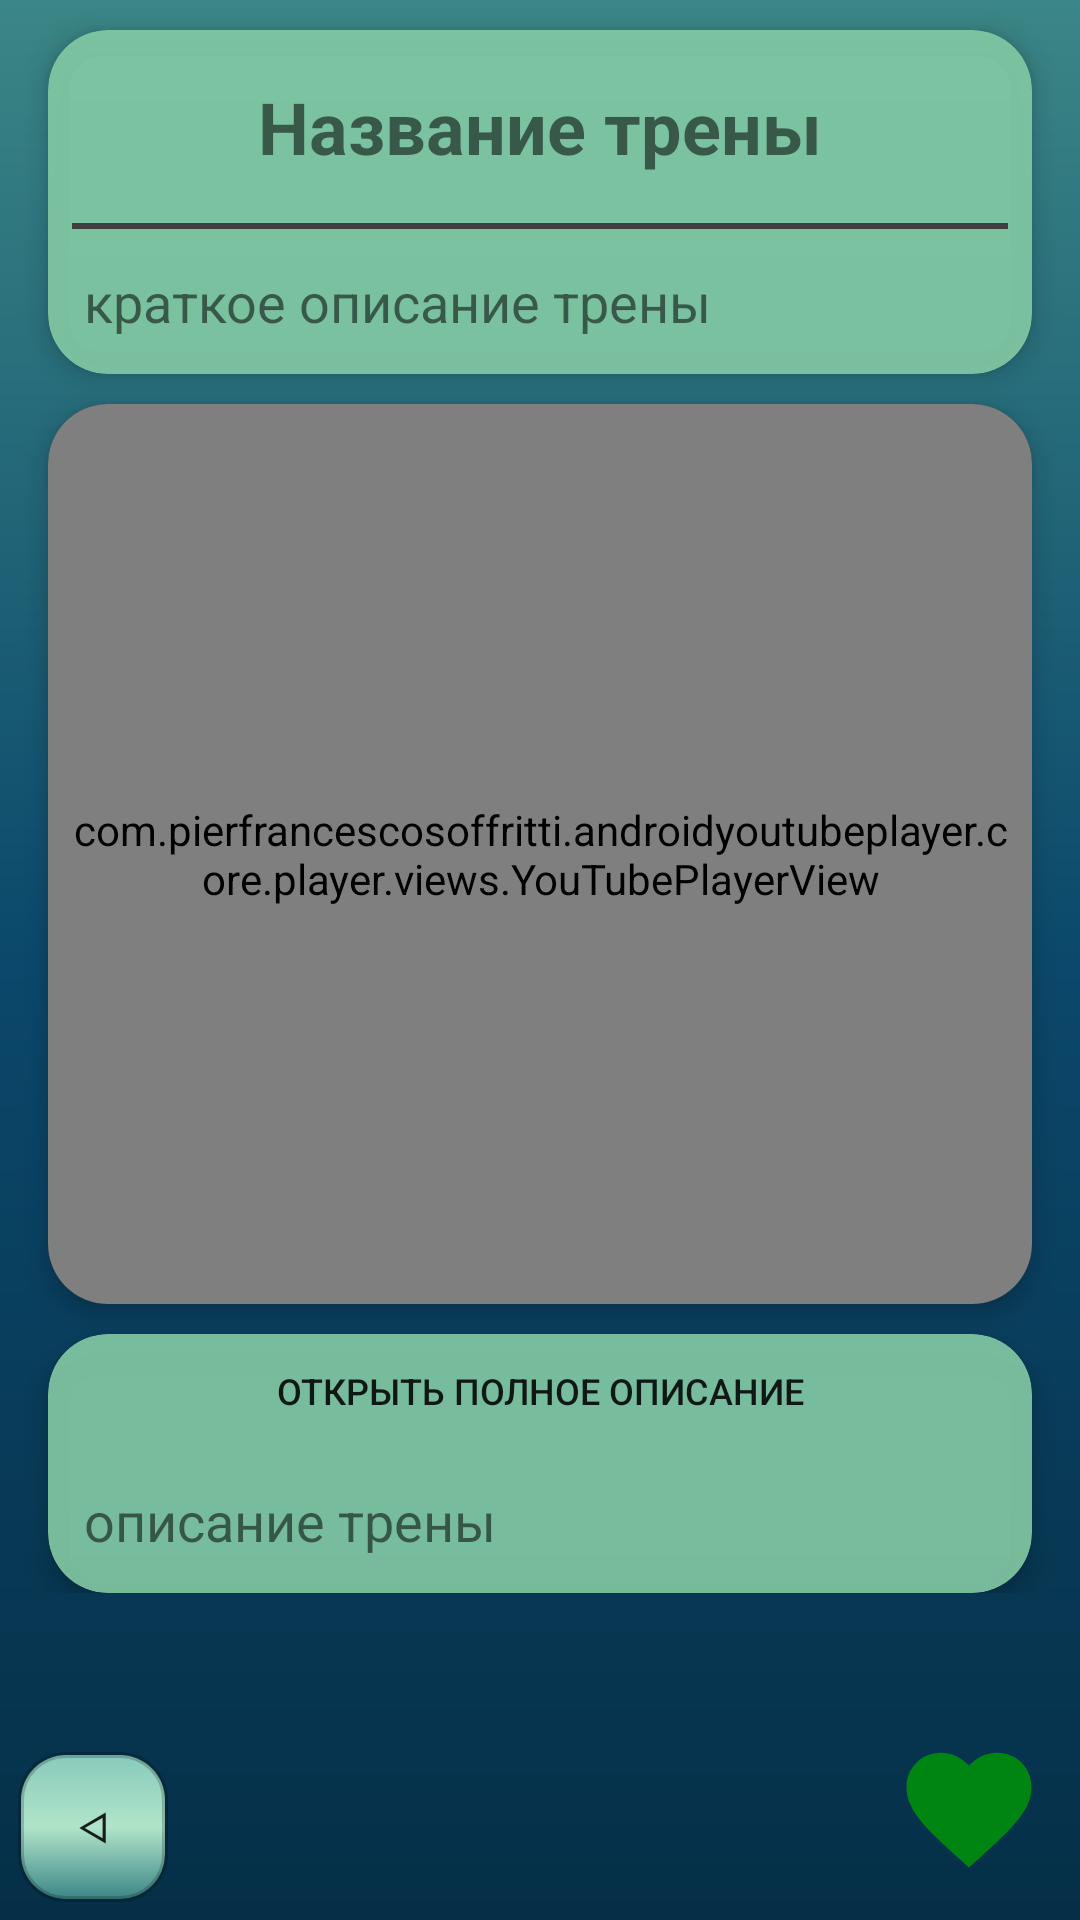

Locate icon controls on the screen. Image size 1080 × 1920, boxes as [left=x1, top=y1, right=x2, bottom=y2].
favorite: [left=906, top=1753, right=1032, bottom=1867]
